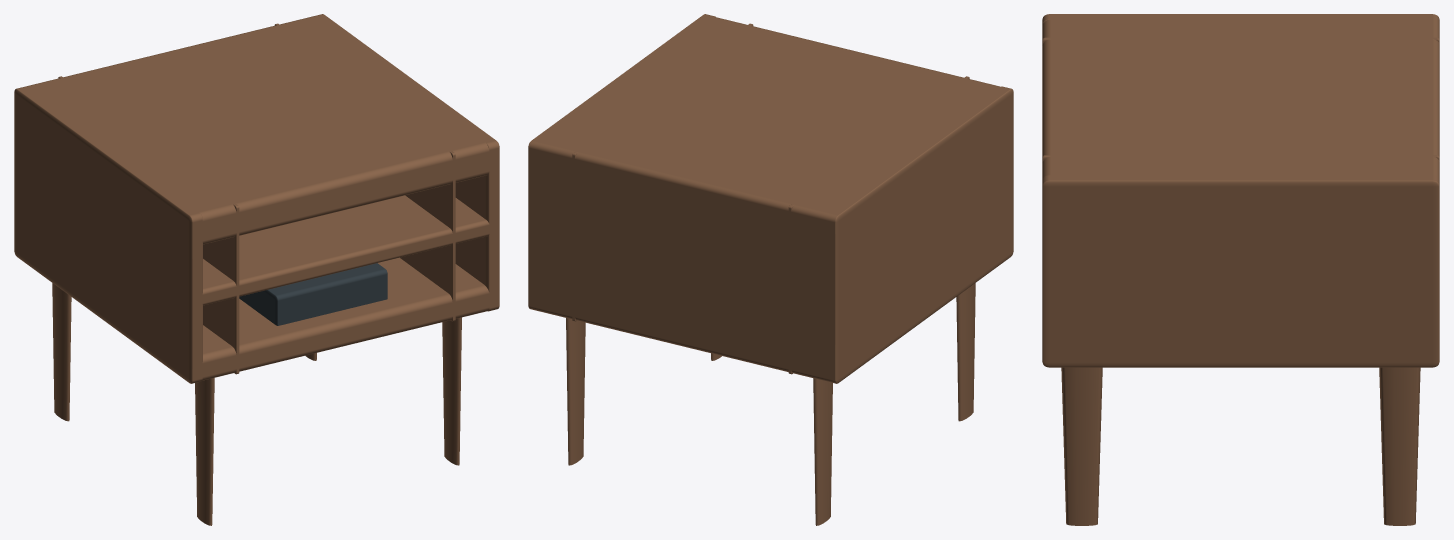
File: cabinet-3-6.glb
3 renders of one model, left to right at view 1: azimuth 30°, elevation 25°; view 2: azimuth 150°, elevation 25°; view 3: azimuth 270°, elevation 25°, orthographic. The views are drawn at different scales.
Visible parts, largest first — view 1: part, media-player; view 2: part; view 3: part.
Boxes of the visible parts, <box> form: part: <box>14,14,499,525</box>; media-player: <box>239,263,387,325</box>; part: <box>528,14,1013,525</box>; part: <box>1042,14,1439,525</box>.
Bounding box in the file's own units: 1 × 1 × 1.
